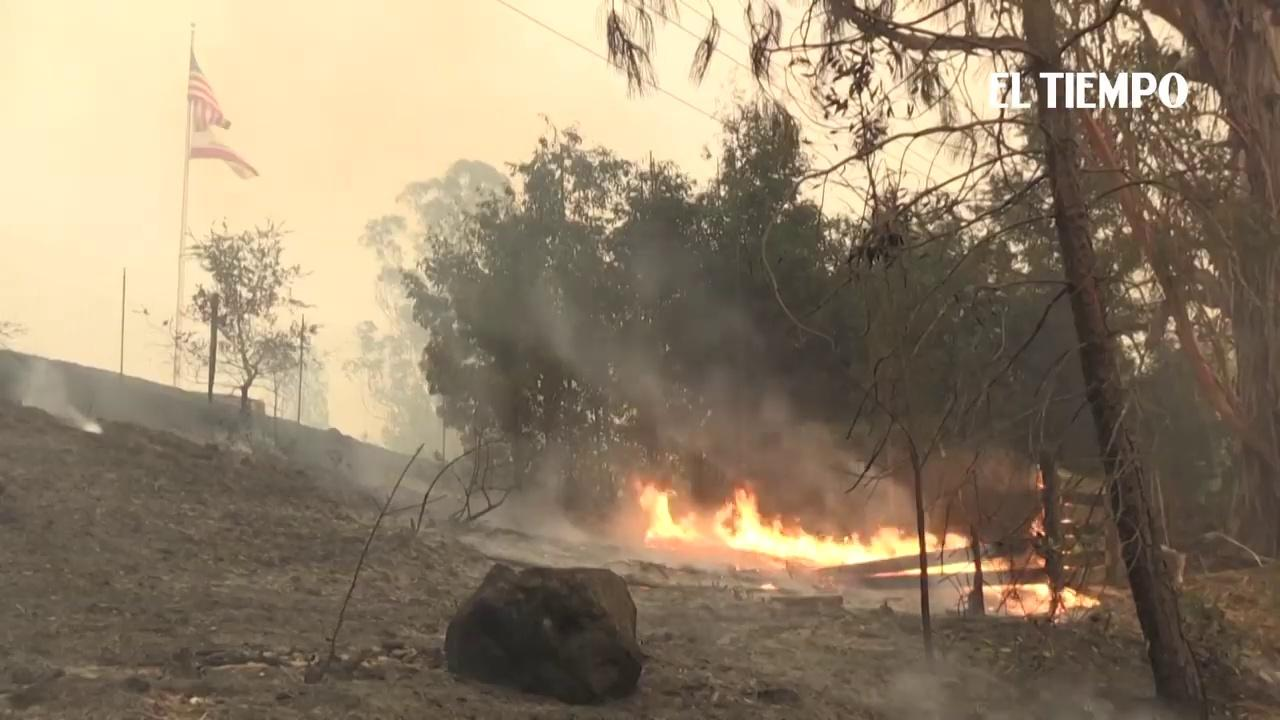Fire: (627, 478, 966, 561), (983, 576, 1098, 616)
